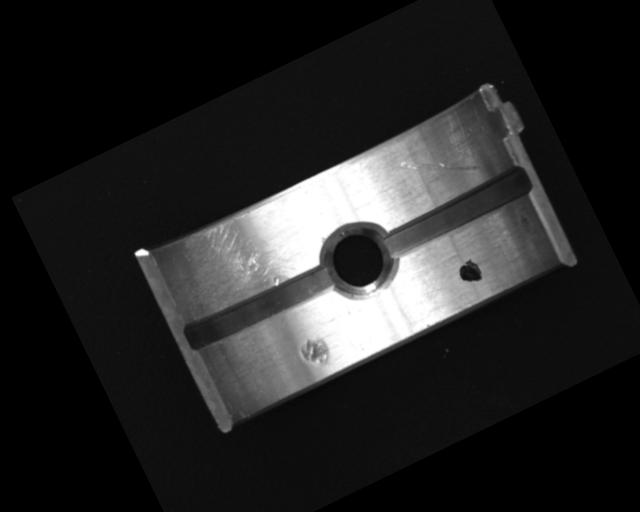blot: (454, 256, 485, 288)
bruise: (296, 332, 336, 375)
gap: (179, 255, 340, 356), (381, 165, 536, 261)
hole: (311, 210, 407, 310)
nick: (396, 130, 482, 201)
scratch: (158, 186, 326, 326)
